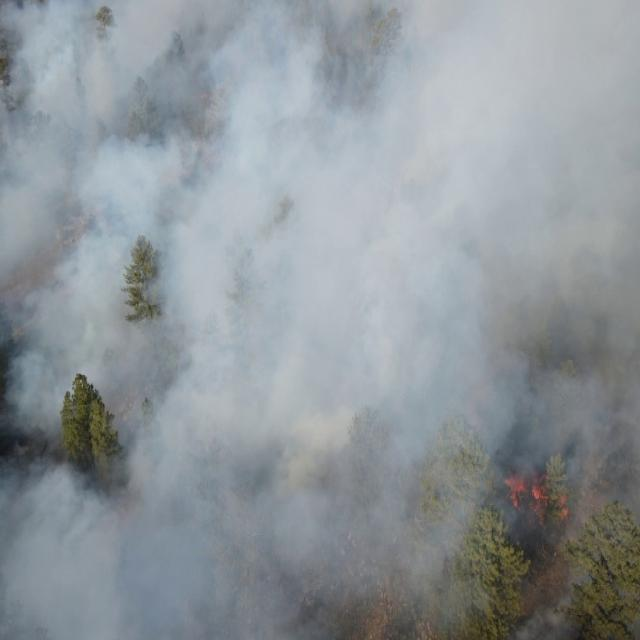fire: (502, 466, 553, 516), (554, 492, 576, 522), (196, 87, 212, 105)
smoke: (0, 0, 640, 640)
